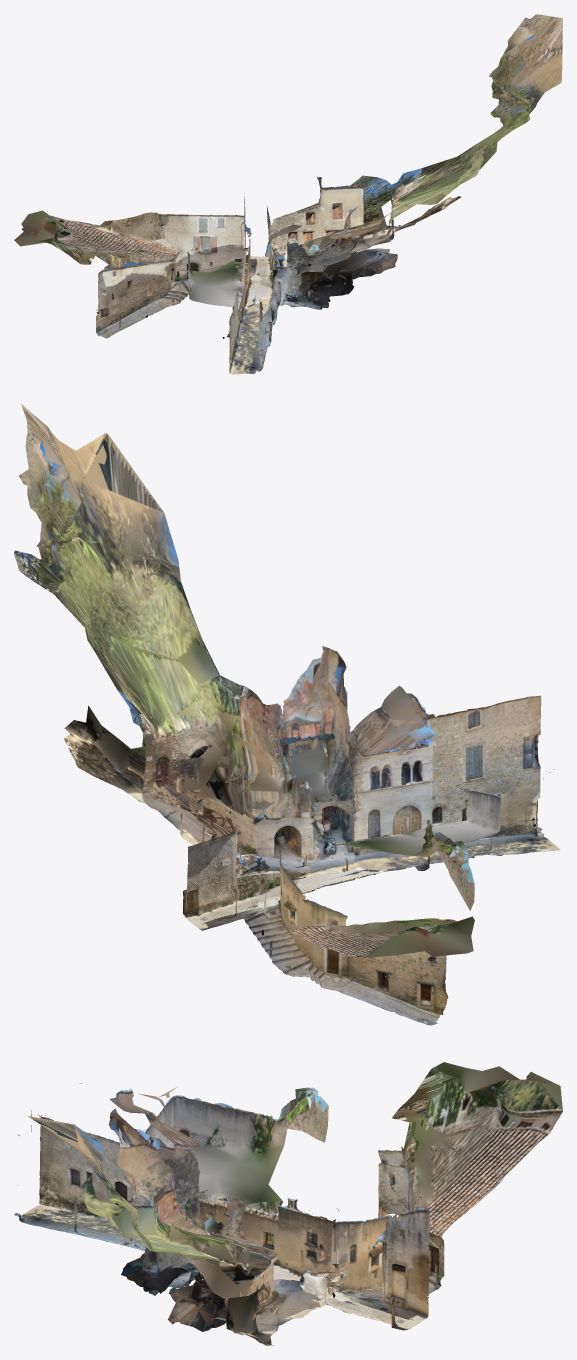
File: medium.glb
3 renders of one model, top to bottom at view 1: azimuth 30°, elevation 25°; view 2: azimuth 150°, elevation 25°; view 3: azimuth 270°, elevation 25°, orthographic. The views are drawn at different scales.
Parts seen in each view (by area): view 1: medium.025; view 2: medium.025; view 3: medium.025.
Part boxes in pixels (box(x1,y1,x2,y2)): medium.025: box(14, 14, 562, 374); medium.025: box(14, 404, 560, 1025); medium.025: box(14, 1062, 562, 1345).
Size of the model in its own units: 44.21 by 27.95 by 29.86.
Materials: 1 (1 with a texture image).
